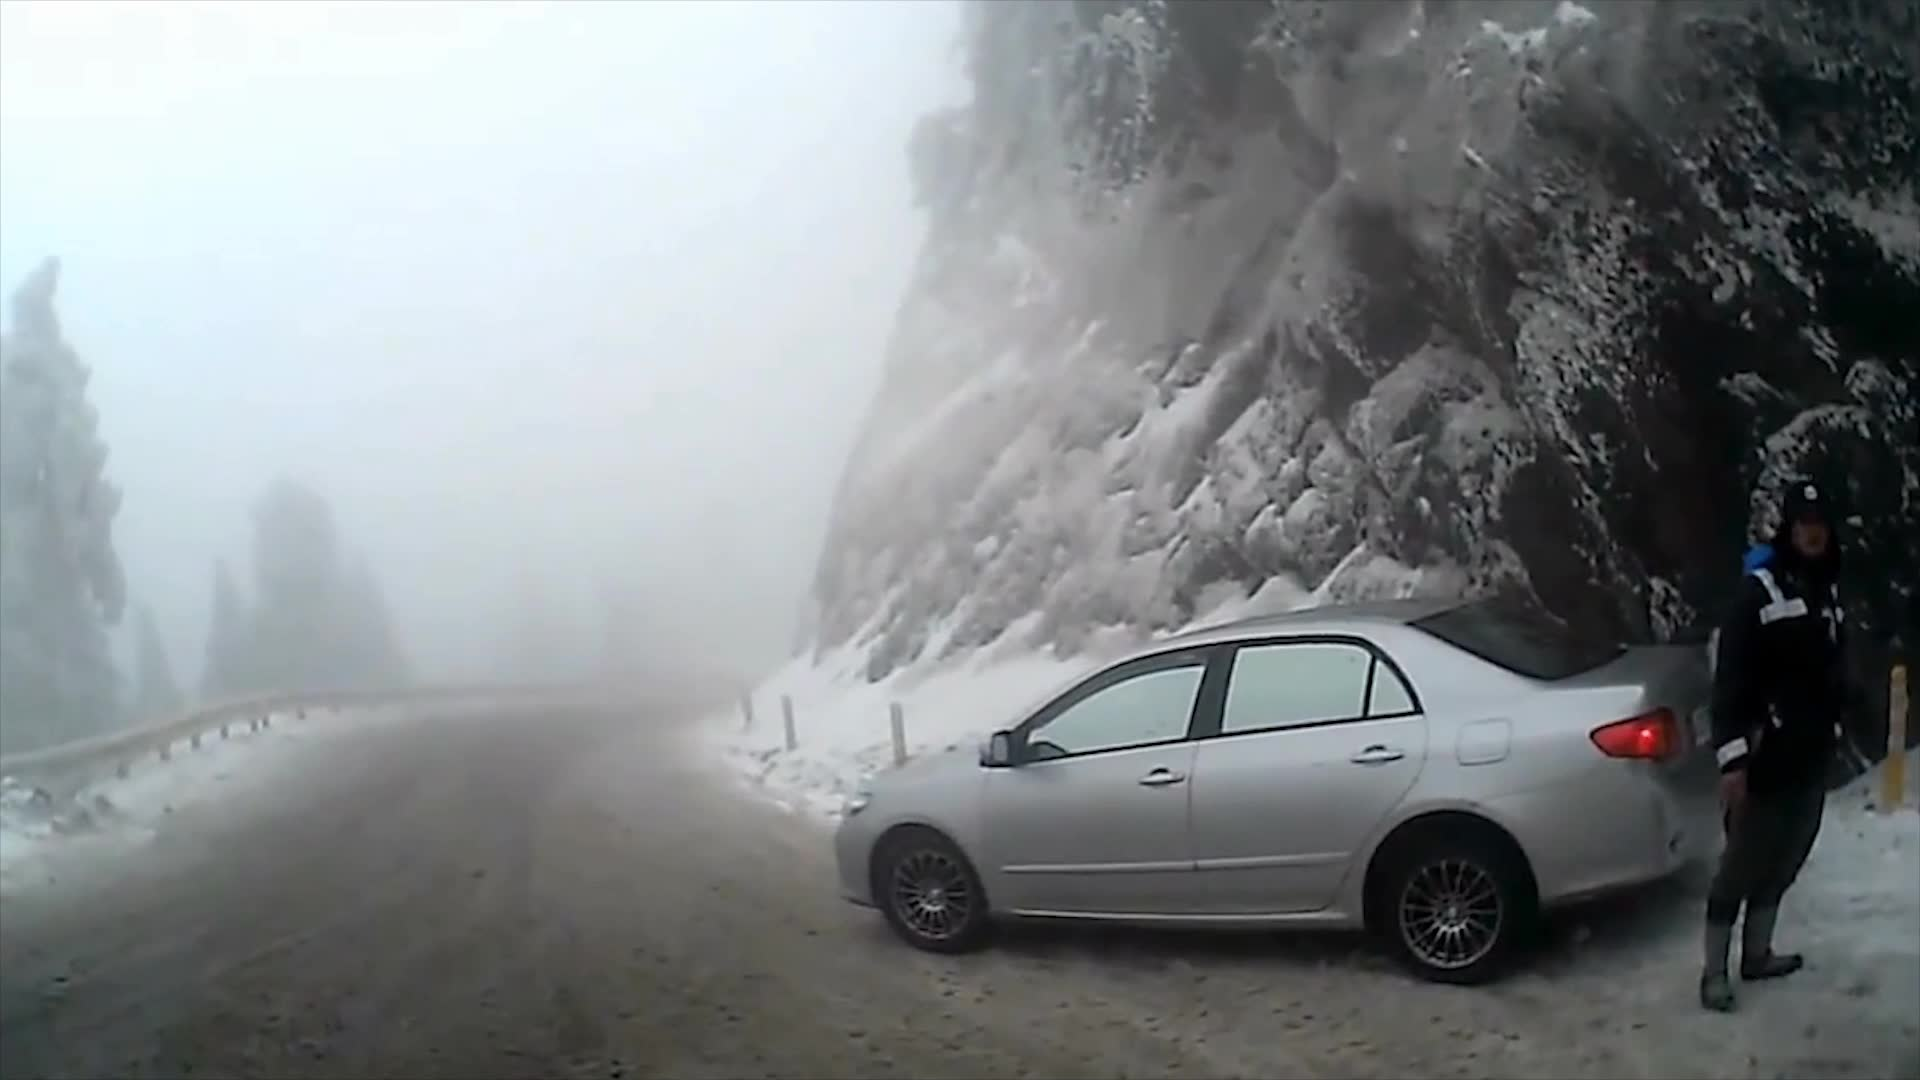pedestrian: (1704, 459, 1861, 1007)
vehicle: (834, 593, 1764, 986)
